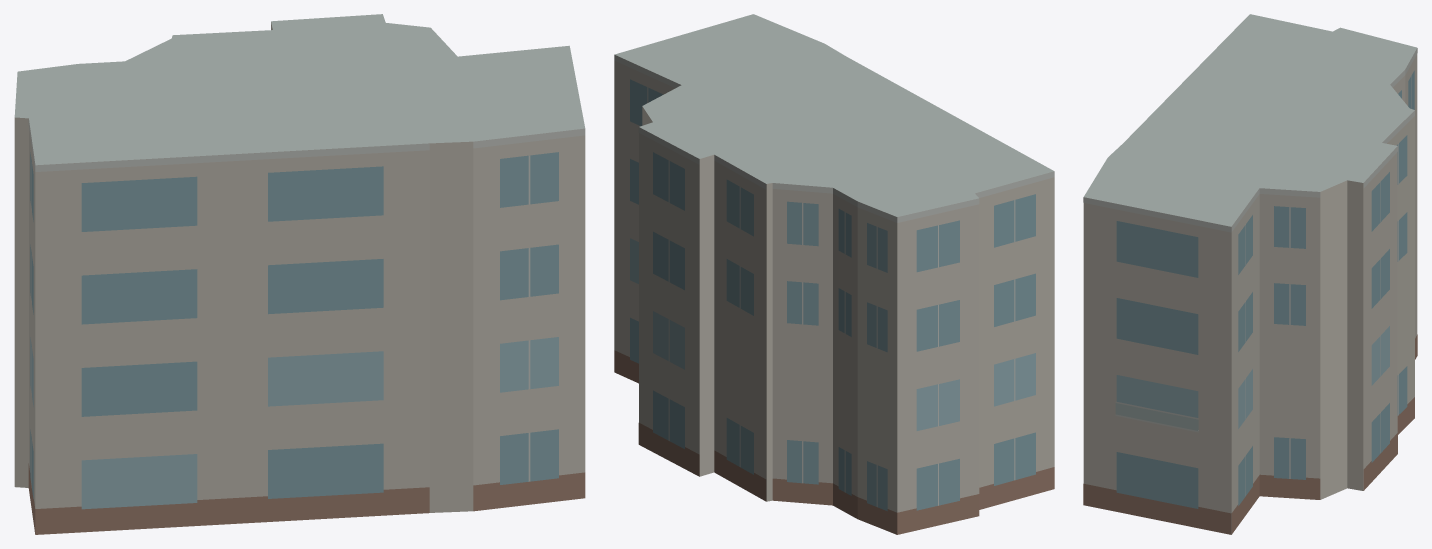
Rendered from survey-upis-32958704.glb.
3 views of the same model, side by side, from view 1: azimuth 30°, elevation 25°; view 2: azimuth 150°, elevation 25°; view 3: azimuth 270°, elevation 25° (orthographic). The views are drawn at different scales.
Parts seen in each view (by area): view 1: survey-upis-32958704.tmp; view 2: survey-upis-32958704.tmp; view 3: survey-upis-32958704.tmp.
Part boxes in pixels (<box>): survey-upis-32958704.tmp: <box>14,14,585,534</box>; survey-upis-32958704.tmp: <box>614,14,1054,534</box>; survey-upis-32958704.tmp: <box>1083,14,1417,534</box>.
Bounding box in the file's own units: 19.42 × 13.1 × 12.88.
